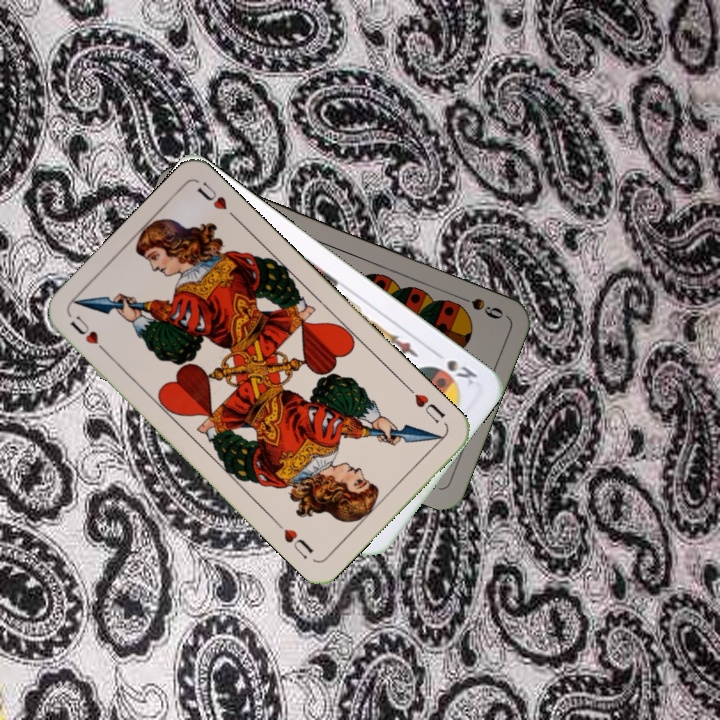HU: (66, 311, 112, 358), (403, 382, 448, 426)
S9: (450, 290, 506, 322)
SK: (431, 355, 480, 388)
